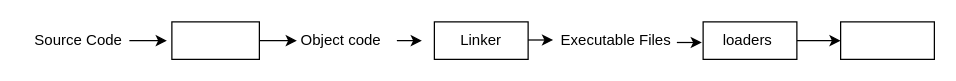
Some shapes in this 956 by 81 pixel diagram are drawn without their labels. The box of each missing label's shape, as (x1, y1, x2, y2) in pixels:
Compiler: (171, 21, 259, 59)
Main Memory: (839, 21, 934, 59)
